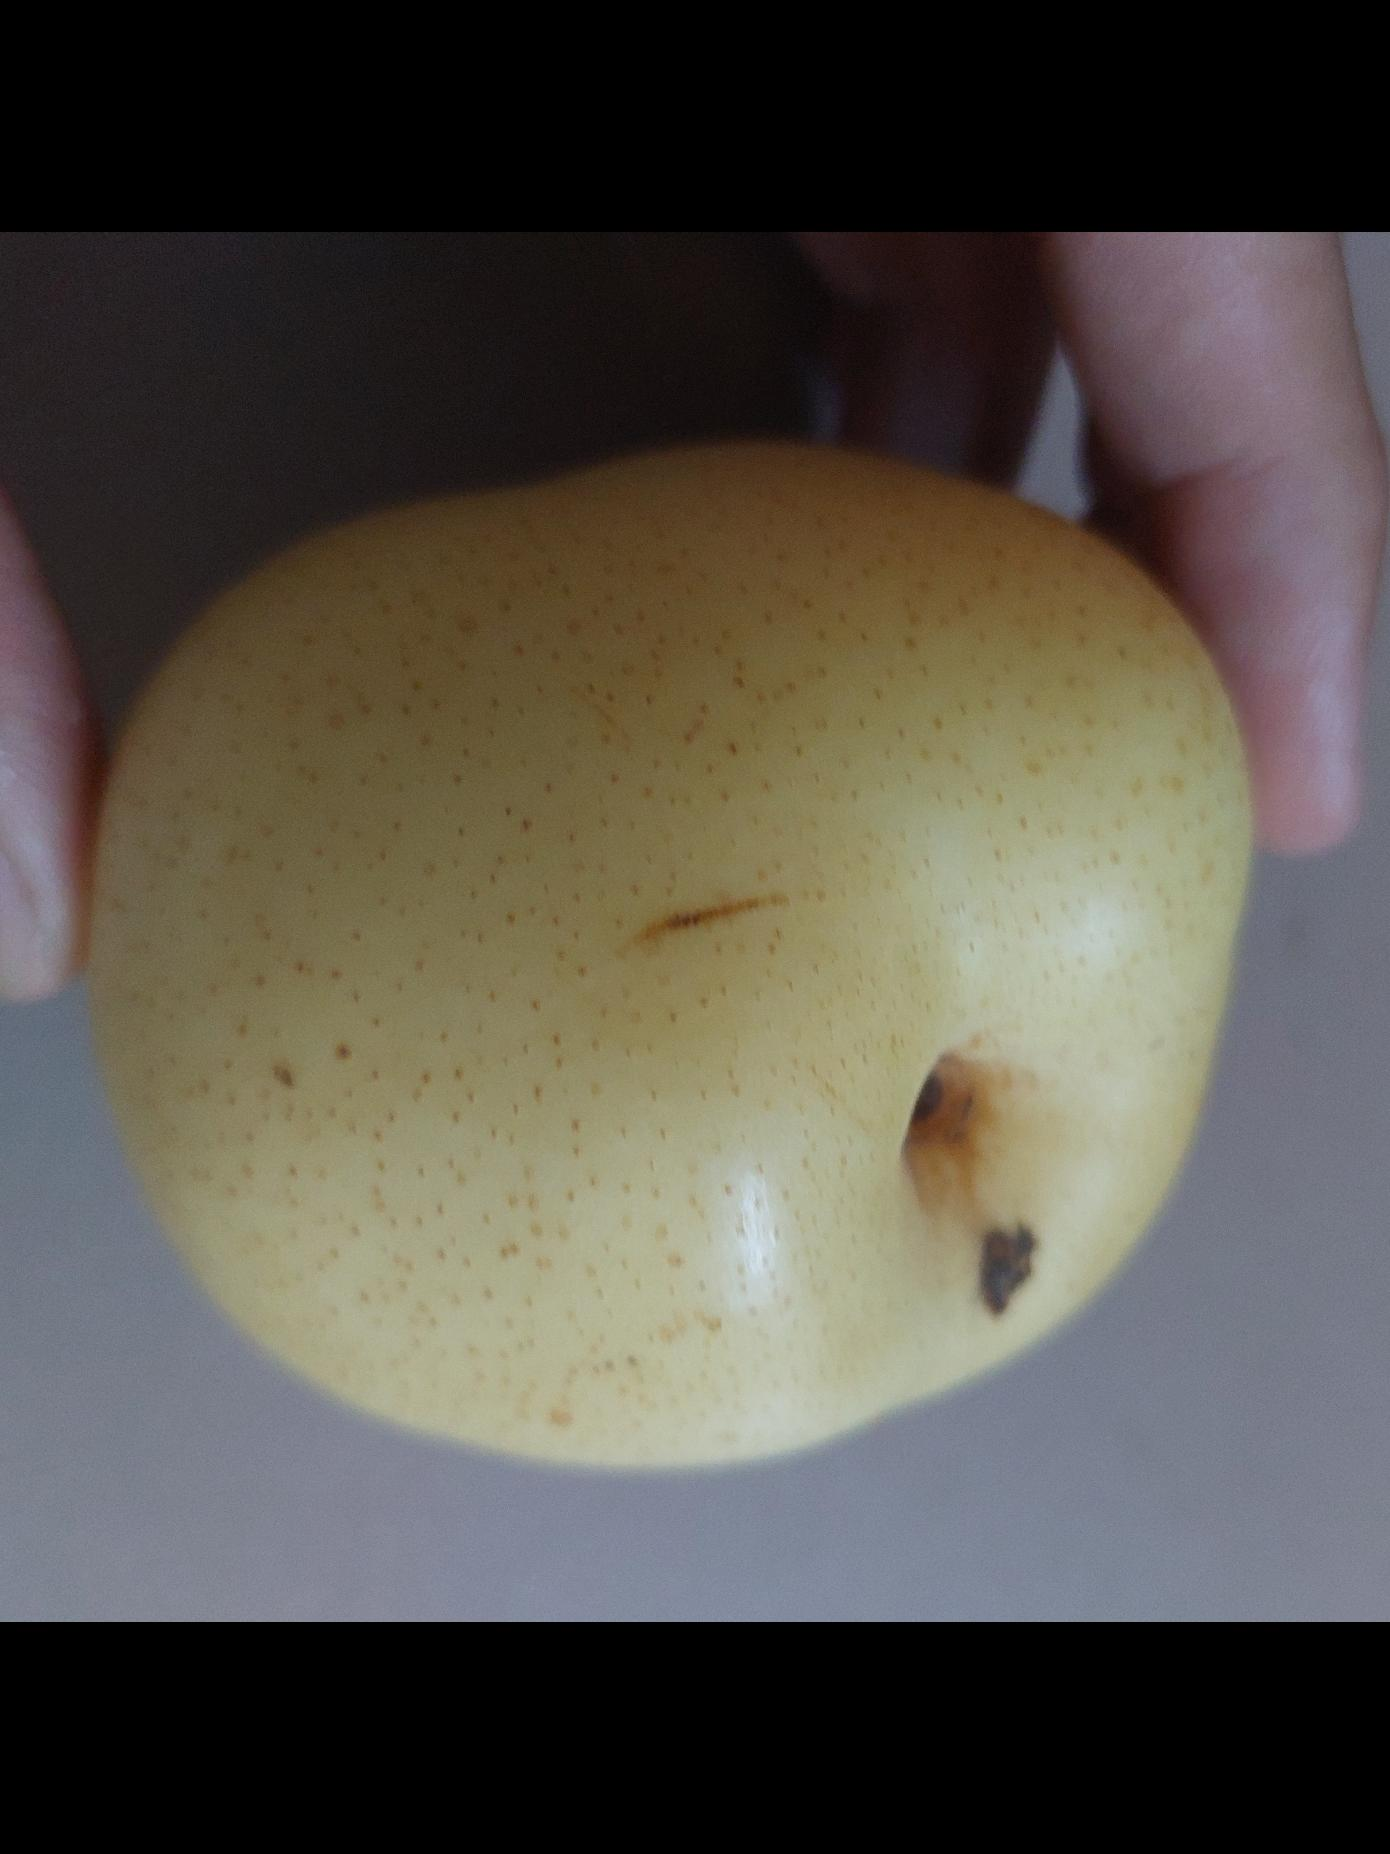Good Pear: (60, 451, 1262, 1467)
